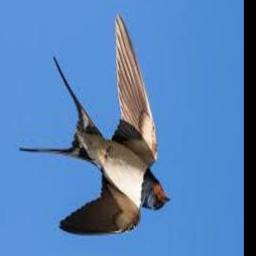Swallow: (19, 16, 170, 237)
